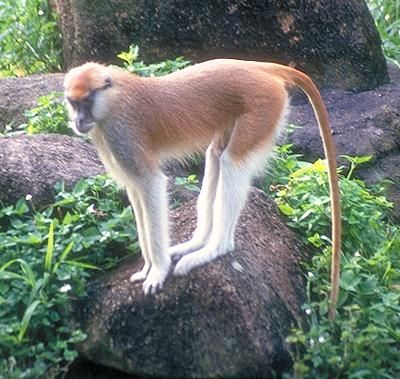monkey: (63, 59, 329, 296)
